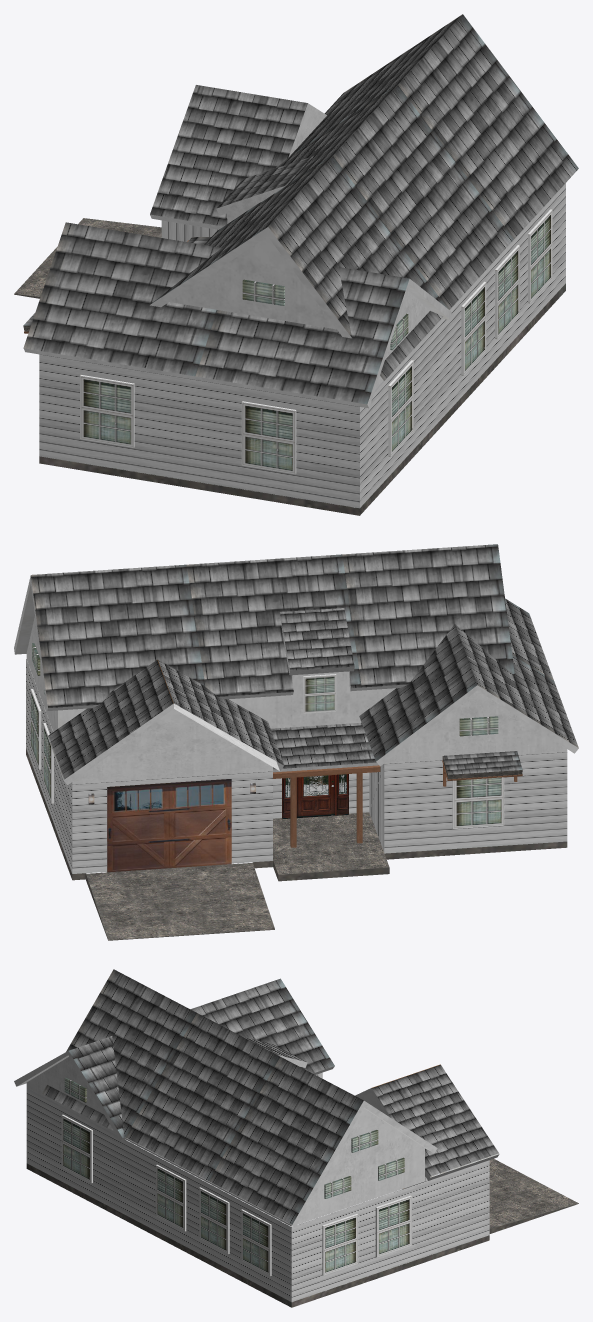
The model's file is house_09__9_.FBX.
The picture shows the model from 3 angles, top to bottom: view 1: azimuth 30°, elevation 25°; view 2: azimuth 150°, elevation 25°; view 3: azimuth 270°, elevation 25°; orthographic projection. The views are drawn at different scales.
Visible parts, largest first — view 1: house_09__9_; view 2: house_09__9_; view 3: house_09__9_.
Boxes of the visible parts, x1,y1,x2,y2 form: house_09__9_: (14, 14, 578, 515); house_09__9_: (14, 544, 578, 940); house_09__9_: (14, 969, 578, 1307).
Size of the model in its own units: 218 by 87.96 by 240.
